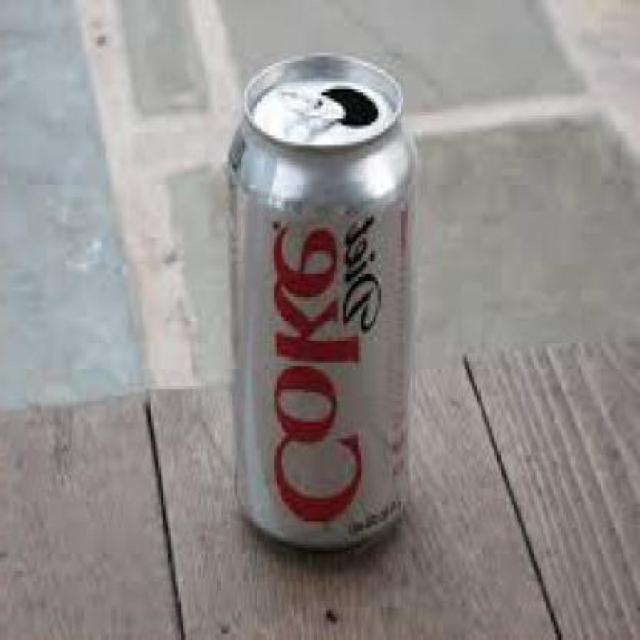METAL: (225, 50, 420, 561)
